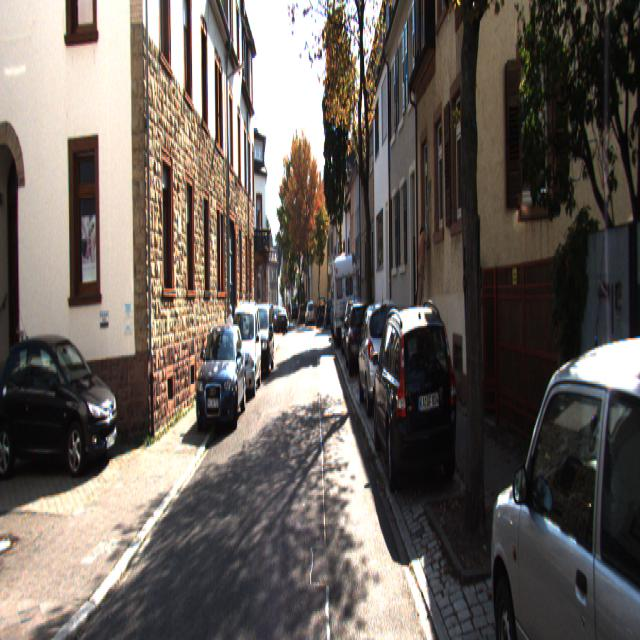Car: (481, 324, 639, 638), (369, 301, 462, 508), (0, 330, 121, 482), (193, 320, 247, 438), (356, 294, 404, 419), (224, 300, 261, 400), (330, 252, 358, 347), (340, 299, 371, 379), (249, 300, 276, 378), (338, 298, 366, 359), (275, 306, 288, 334)
